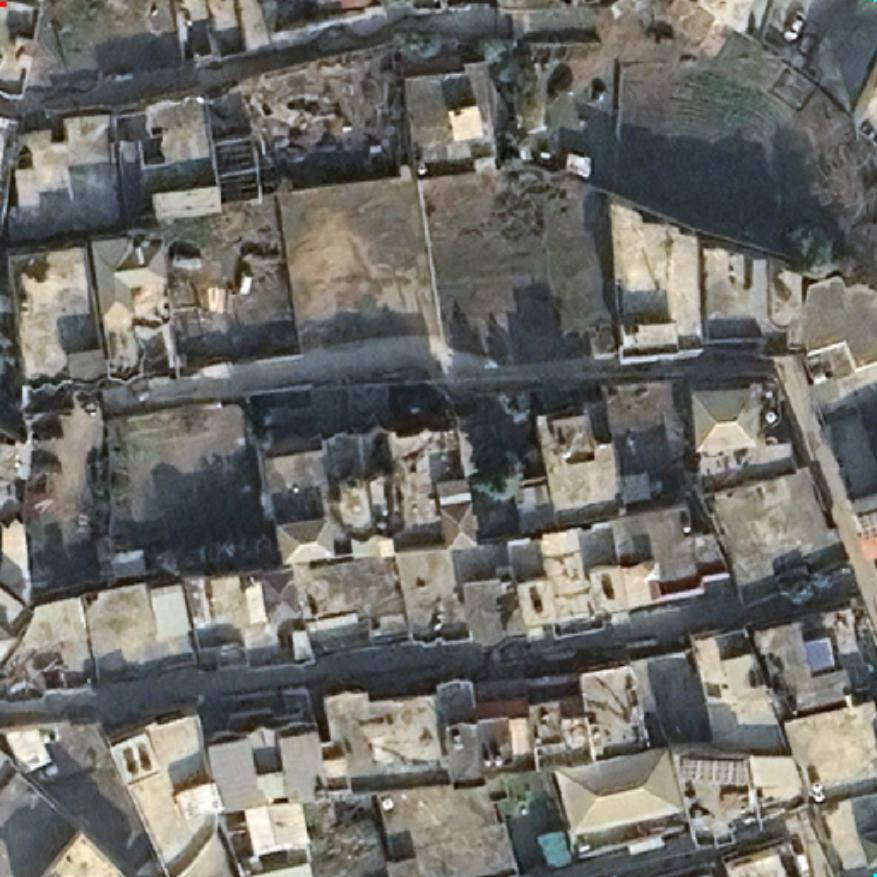Solarpanel: (678, 755, 752, 787)
